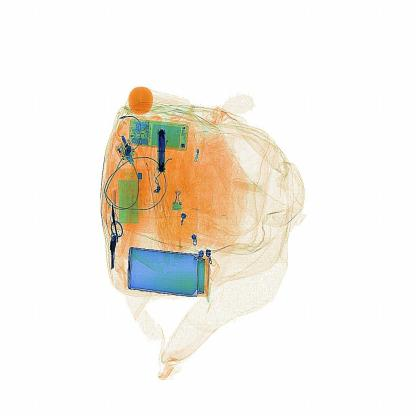scissors: (150, 118, 174, 177)
